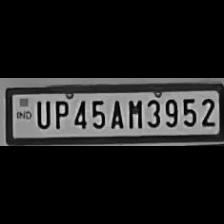2: (197, 94, 217, 128)
3: (143, 96, 161, 128)
4: (70, 96, 88, 130)
5: (86, 96, 106, 130), (178, 95, 198, 127)
9: (161, 95, 179, 127)
A: (107, 97, 125, 129)
M: (124, 96, 144, 128)
P: (51, 97, 69, 129)
U: (32, 96, 52, 130)
